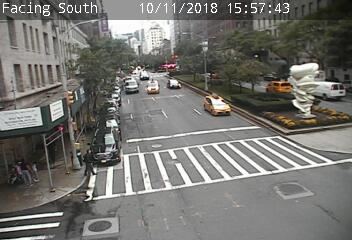car: (204, 95, 230, 115), (125, 80, 138, 93), (147, 80, 159, 93), (167, 79, 181, 89), (140, 71, 149, 80)
